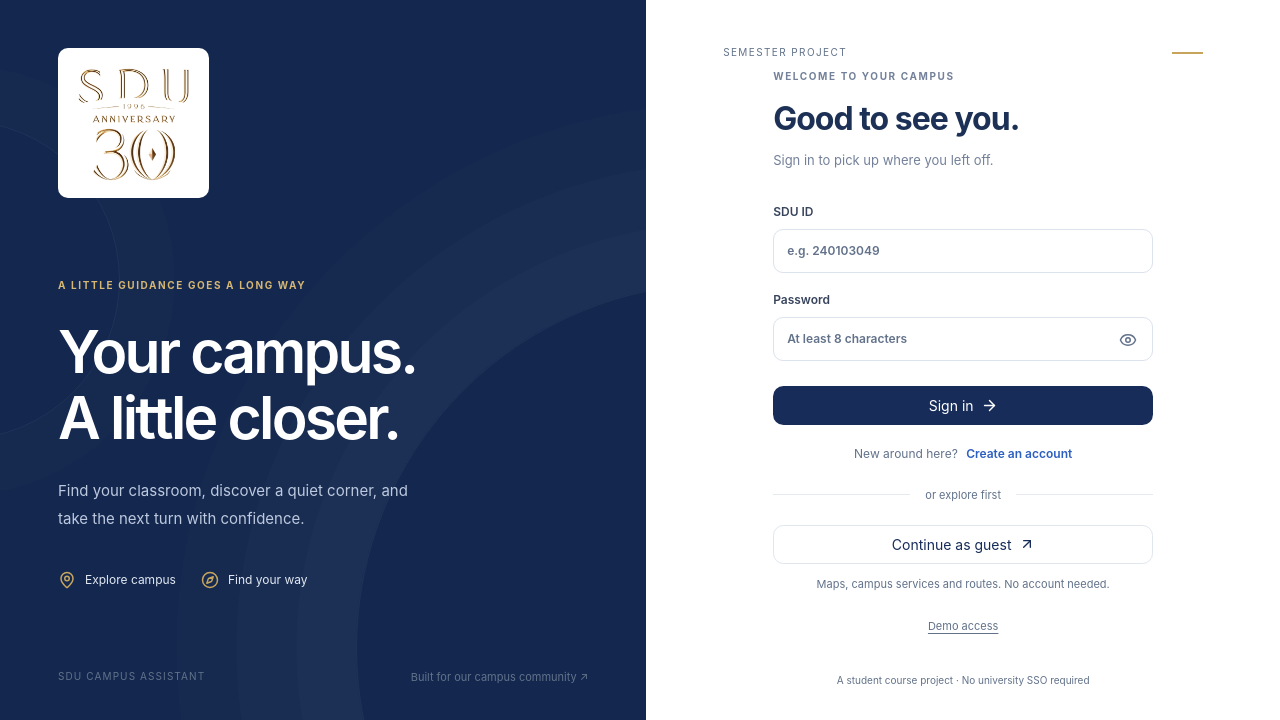
Test: credentials start empty and invalid ID/password produce actionable errors
Expected: the field labelled "SDU ID" is empty, left=773, top=229, right=1153, bottom=273
Expected: the password field with placeholder "At least 8 characters" is empty, left=773, top=317, right=1153, bottom=361
Click the button "Sign in": (963, 405) left=773, top=386, right=1153, bottom=424
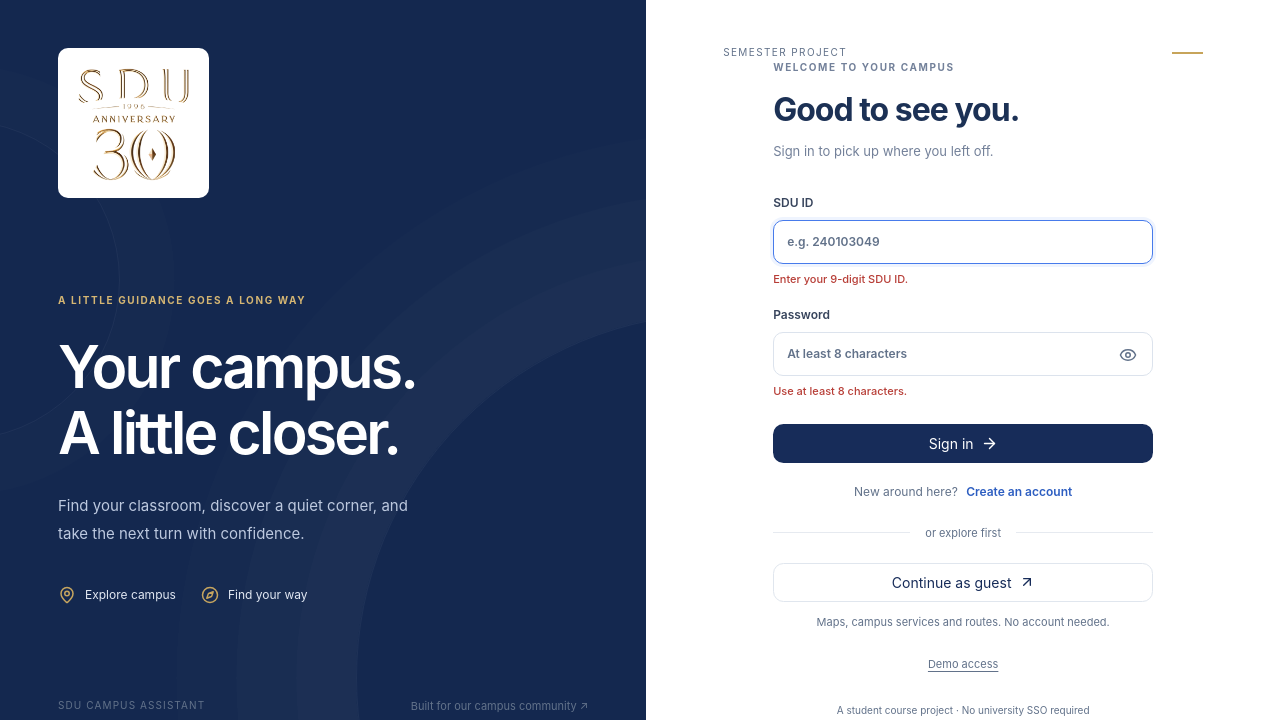
Expected: the text "Enter your 9-digit SDU ID." is shown, left=773, top=272, right=908, bottom=286
Expected: the text "Use at least 8 characters." is shown, left=773, top=384, right=907, bottom=398
